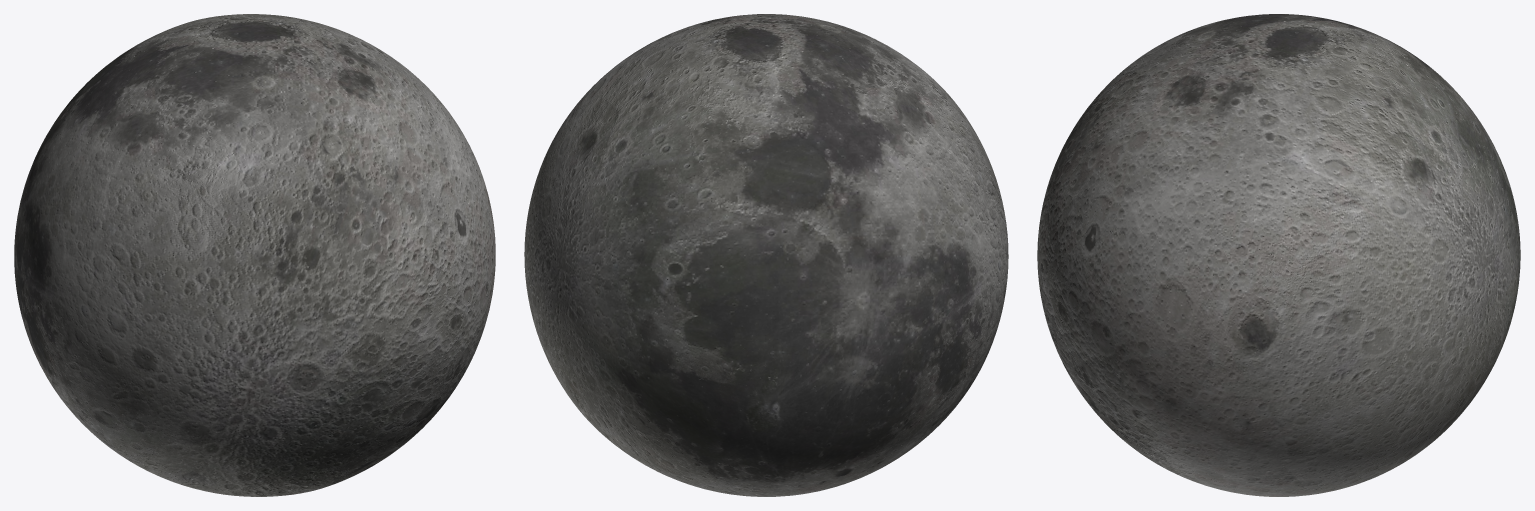
Rendered from luna_morada.obj.
3 views of the same model, side by side, from view 1: azimuth 30°, elevation 25°; view 2: azimuth 150°, elevation 25°; view 3: azimuth 270°, elevation 25° (orthographic).
Visible parts, largest first — view 1: luna_azul; view 2: luna_azul; view 3: luna_azul.
Part boxes in pixels (x1=…): luna_azul: x1=14, y1=14, x2=495, y2=496; luna_azul: x1=524, y1=14, x2=1008, y2=496; luna_azul: x1=1037, y1=14, x2=1520, y2=496.
Bounding box in the file's own units: 1.99 × 1.99 × 1.99.
1 material, 1 textured.
